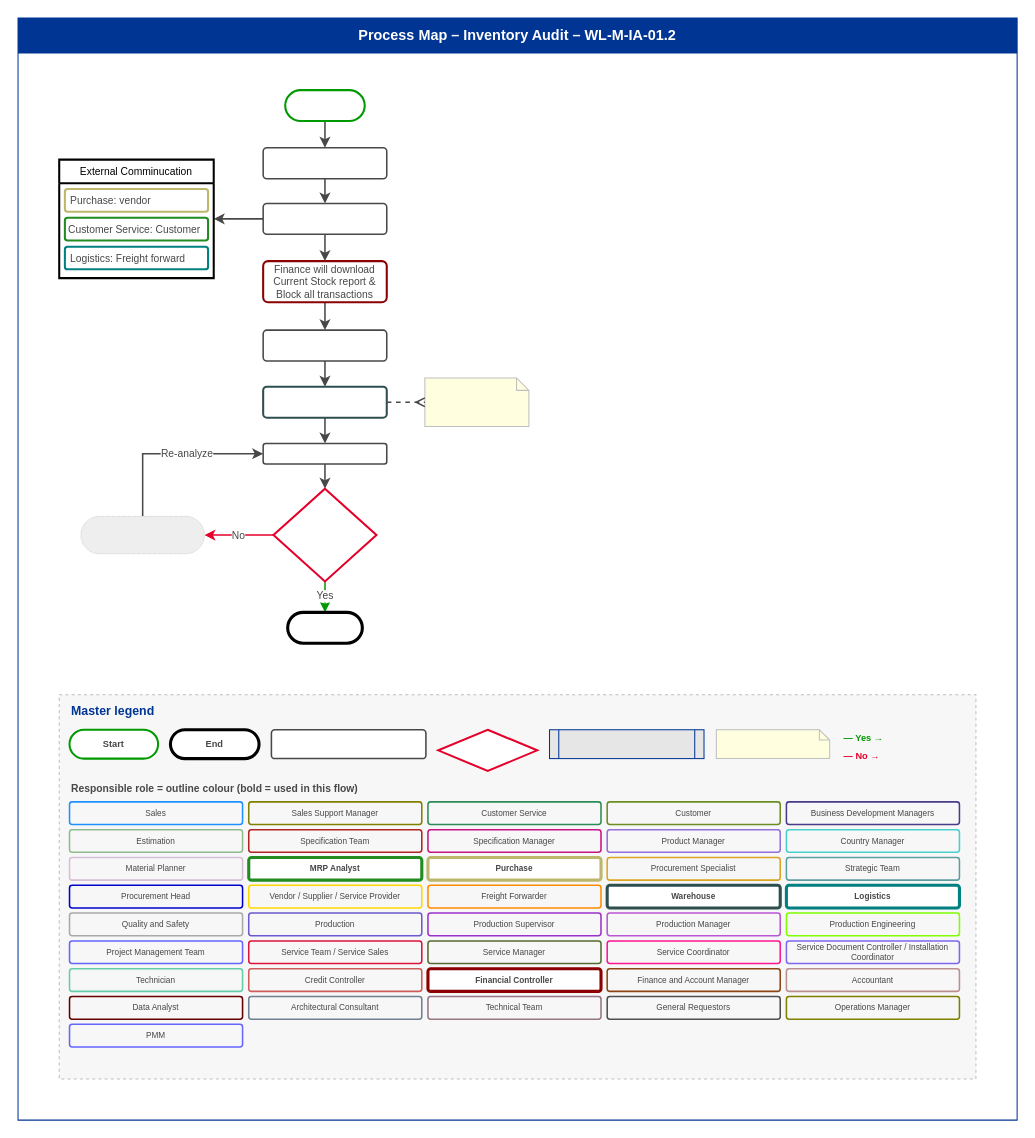
The diagram is 1035 pixels wide and 1138 high, and some of its shapes have lost their labels. The centre of each missing label's shape, as x and y in pixels:
- WH team will perform stock count SAP: [324,401]
Activity (outline = role): [348,744]
All OK ?: [324,534]
Analyze the difference: [324,453]
AUDIT: [324,105]
CORRECTION Ref S#: WL-S-SC-01: [142,534]
Decision: [487,749]
EXIT: [324,627]
Hired External Auditor will perform random checks.: [476,401]
Inventory document is created and printed: [324,345]
Linked process (Ref ID): [626,744]
Note / checklist: [772,744]
Notify Logistics, CS, Purchase Team: [324,218]
WH Manager Initiate annual Audit every JUNE: [324,163]
